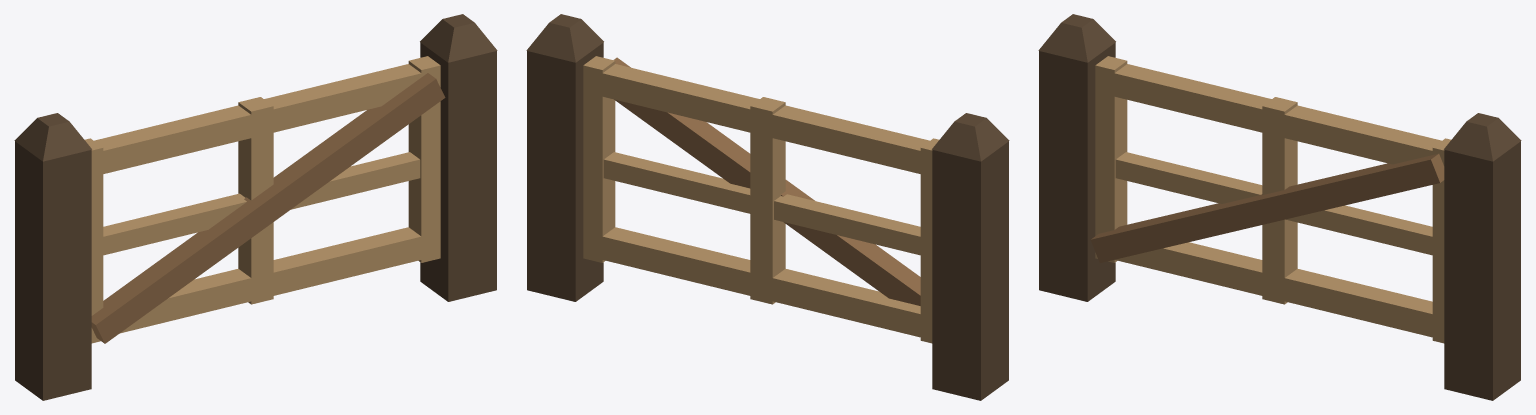
Rendered from fence-gate.glb.
The picture shows the model from 3 angles, left to right: view 1: azimuth 30°, elevation 25°; view 2: azimuth 150°, elevation 25°; view 3: azimuth 330°, elevation 25°; orthographic projection.
Parts seen in each view (by area): view 1: fence-gate; view 2: fence-gate; view 3: fence-gate.
Part boxes in pixels (bbox=[...]): fence-gate: bbox=[14, 14, 497, 400]; fence-gate: bbox=[526, 14, 1009, 400]; fence-gate: bbox=[1038, 14, 1521, 400].
Size of the model in its own units: 2.24 by 1.25 by 0.2472.
Materials: 1 (1 with a texture image).
